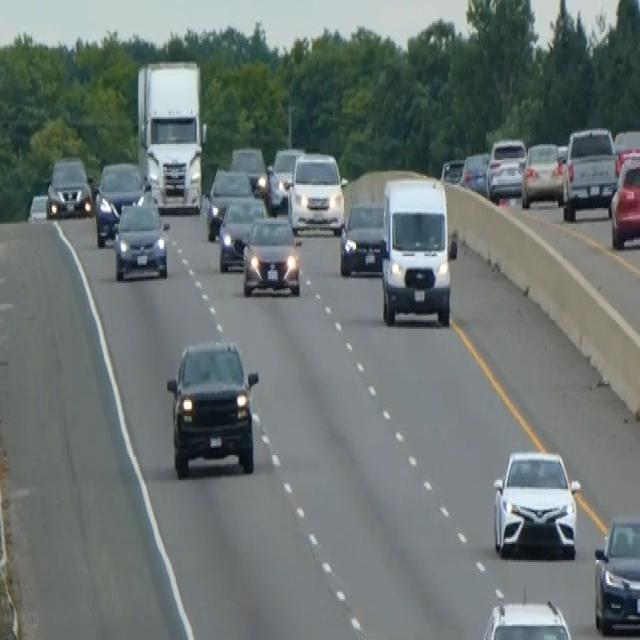car: (491, 446, 580, 558), (593, 512, 639, 635), (561, 124, 617, 220), (112, 192, 170, 281), (241, 213, 302, 297), (289, 149, 345, 235), (94, 160, 146, 245), (217, 194, 268, 272), (480, 596, 573, 638), (339, 199, 385, 276), (205, 165, 252, 240), (520, 140, 564, 208), (608, 153, 639, 249), (46, 154, 92, 218), (486, 135, 526, 199), (267, 146, 304, 212), (230, 144, 268, 197), (458, 150, 490, 196), (27, 178, 51, 220), (439, 156, 464, 185)
jeep: (165, 336, 260, 478)
lorry: (135, 57, 207, 213)
minibus: (378, 172, 457, 329)
